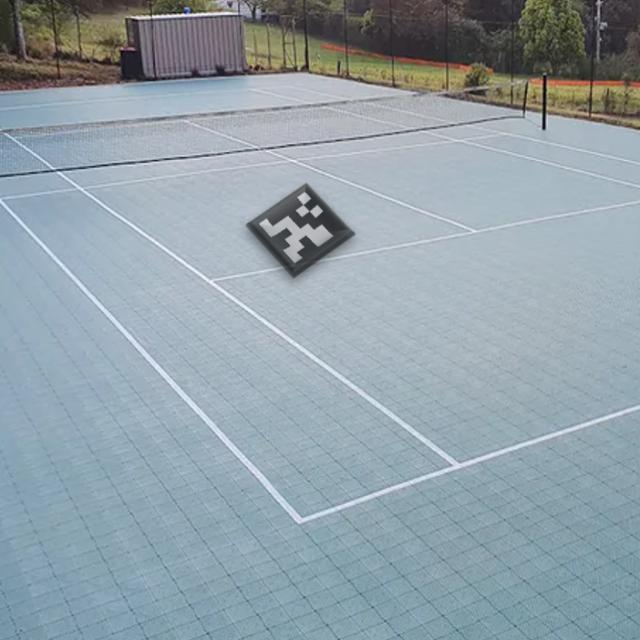marker: (243, 175, 361, 282)
